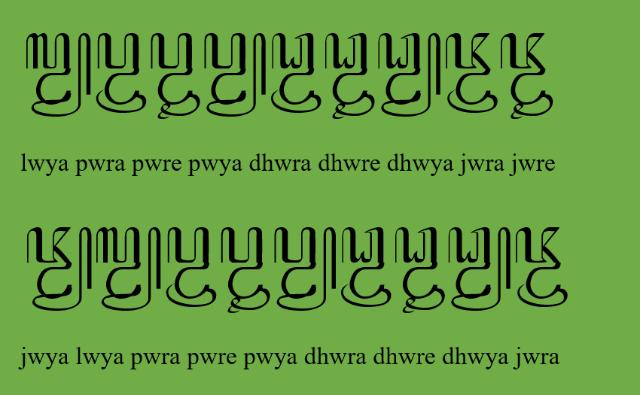dhwr: (270, 32, 322, 114), (342, 227, 392, 308)
dhwre: (324, 32, 376, 120), (394, 227, 446, 314)
dhwy: (378, 32, 442, 118), (447, 226, 511, 312)
jwr: (444, 32, 498, 114), (514, 227, 568, 308)
jwre: (501, 33, 554, 119)
jwy: (26, 226, 92, 312)
lwy: (25, 32, 91, 118), (96, 226, 162, 312)
pwr: (166, 227, 218, 308), (96, 32, 146, 114)
pwre: (150, 32, 200, 120), (222, 226, 270, 314)
pwy: (273, 226, 337, 312), (204, 32, 266, 118)
